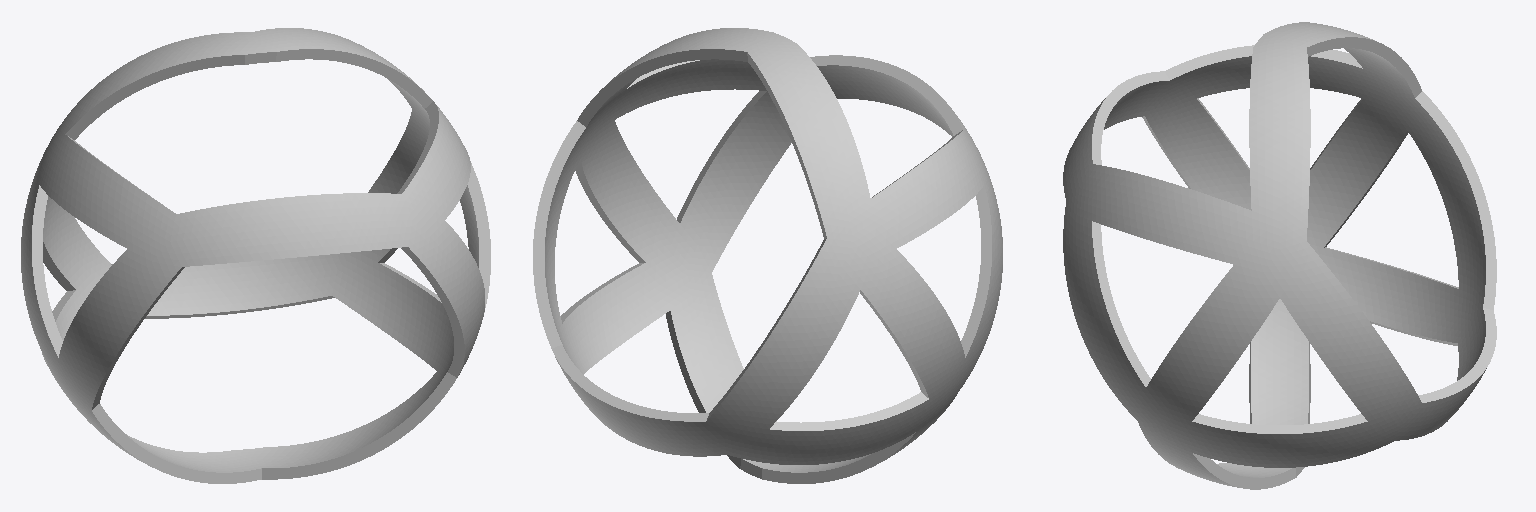
File: AtomicMap1.obj
3 views of the same model, side by side, from view 1: azimuth 30°, elevation 25°; view 2: azimuth 150°, elevation 25°; view 3: azimuth 270°, elevation 25° (orthographic).
Size of the model in its own units: 14.86 by 15 by 13.81.